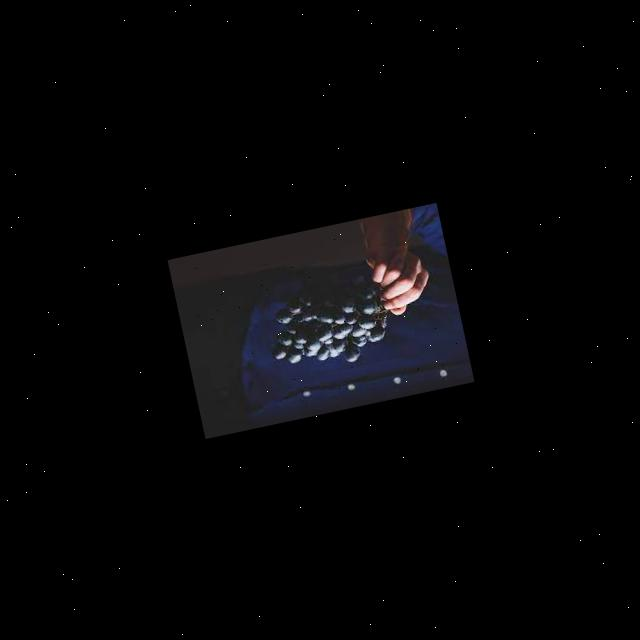grape: (262, 277, 396, 377)
